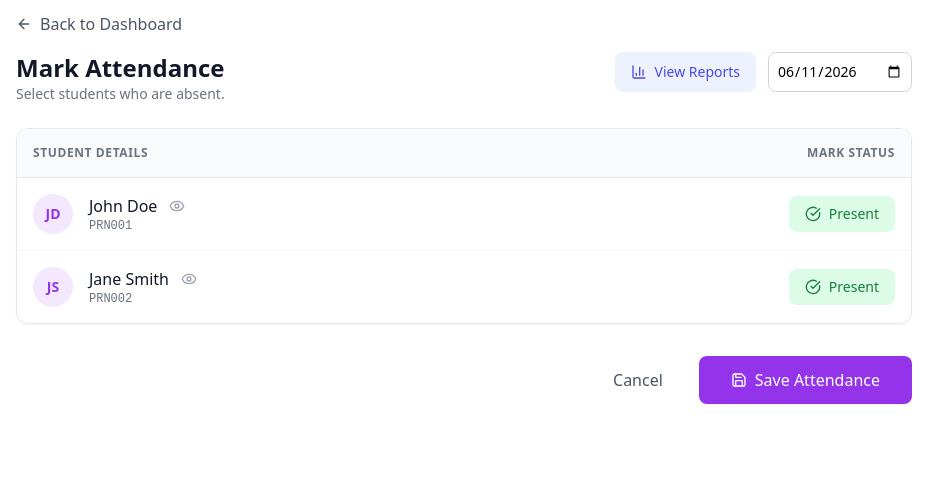
AttendanceSheet Component › shows success message on successful submission
This screenshot has width=929, height=503.
Click the button "Save Attendance" at (805, 380), box [699,356,912,404]
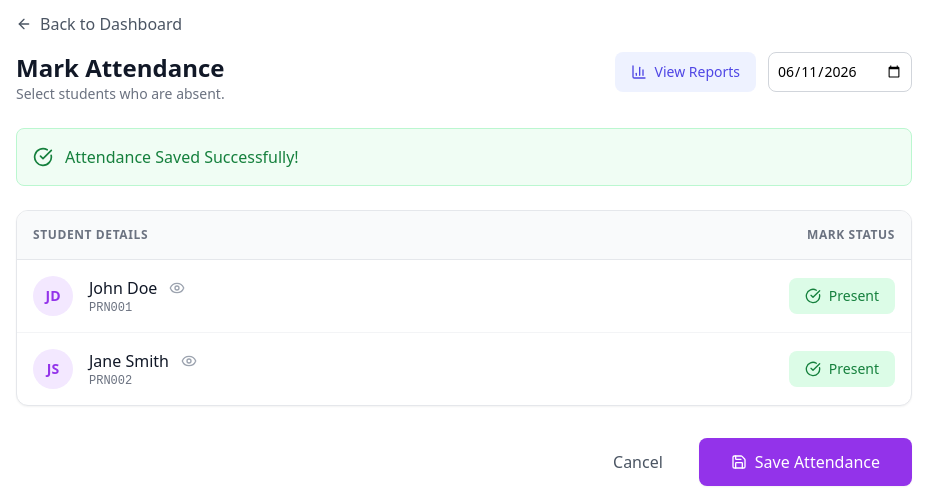
Check: the text "Attendance Saved Successfully!" is shown, box [65,145,299,169]
